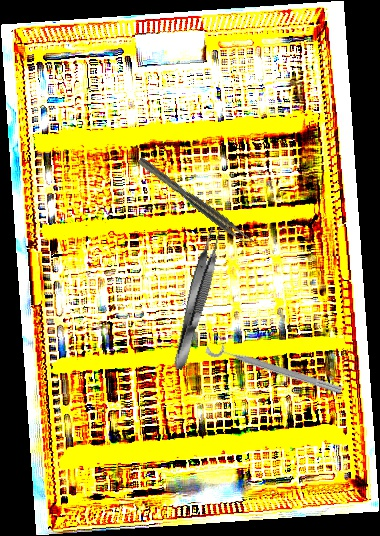Fixation Ring: (204, 331, 347, 399)
Tissue Forceps: (137, 153, 255, 249), (167, 225, 227, 372)
